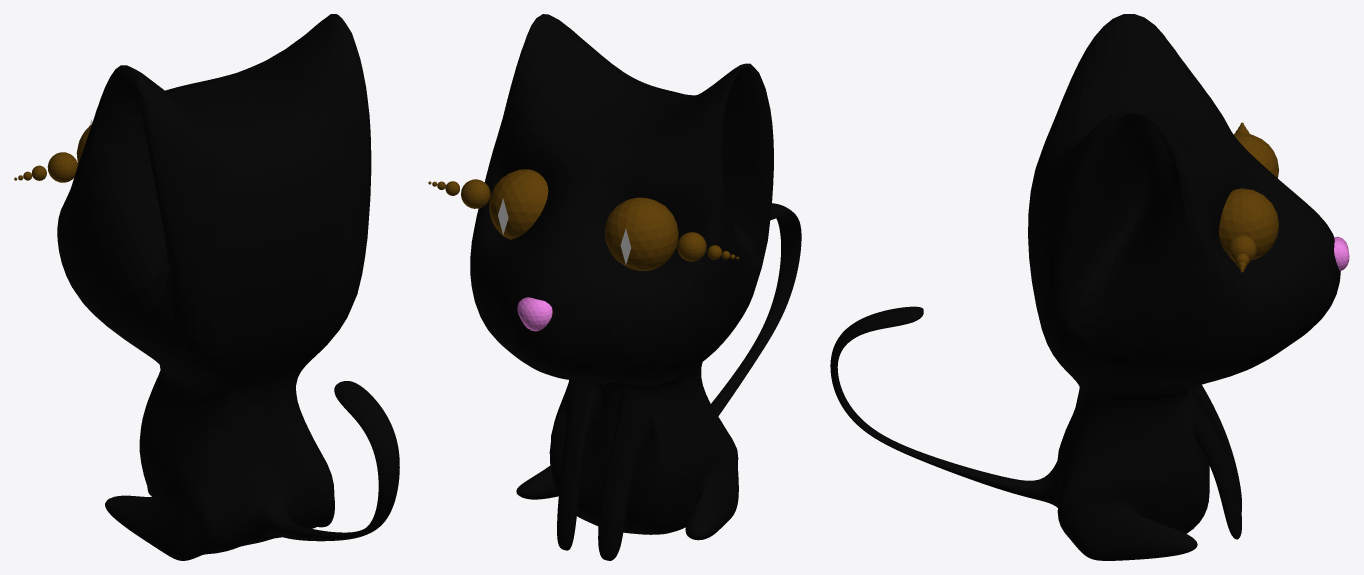
File: cat.fbx
The picture shows the model from 3 angles, left to right: view 1: azimuth 30°, elevation 25°; view 2: azimuth 150°, elevation 25°; view 3: azimuth 270°, elevation 25°; orthographic projection. The views are drawn at different scales.
Parts seen in each view (by area): view 1: Cube, Icosphere; view 2: Cube, Icosphere.002, Icosphere, Icosphere.001; view 3: Cube, Icosphere.002.
Boxes of the visible parts, x1,y1,x2,y2 form: Cube: (57, 14, 399, 560); Icosphere: (47, 152, 77, 182); Cube: (470, 14, 801, 560); Icosphere.002: (489, 169, 678, 270); Icosphere: (461, 179, 706, 261); Icosphere.001: (517, 297, 552, 331); Cube: (830, 14, 1340, 560); Icosphere.002: (1219, 133, 1278, 260).
Size of the model in its own units: 138 by 203 by 204.
